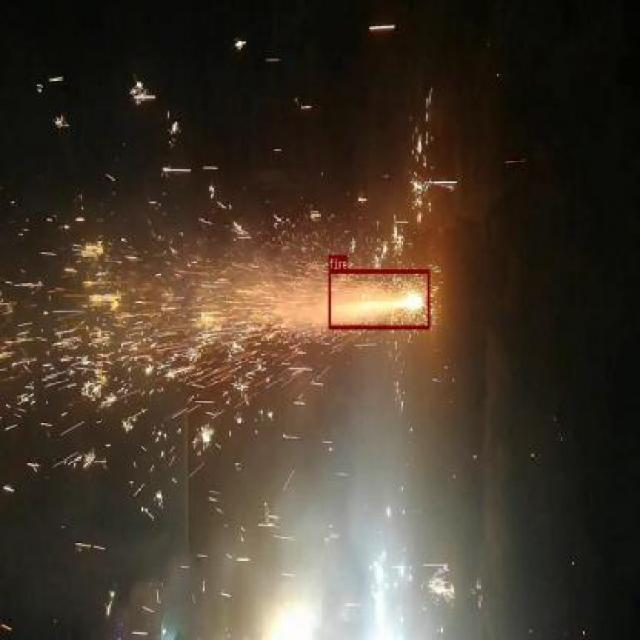Fire: (328, 268, 430, 328)
